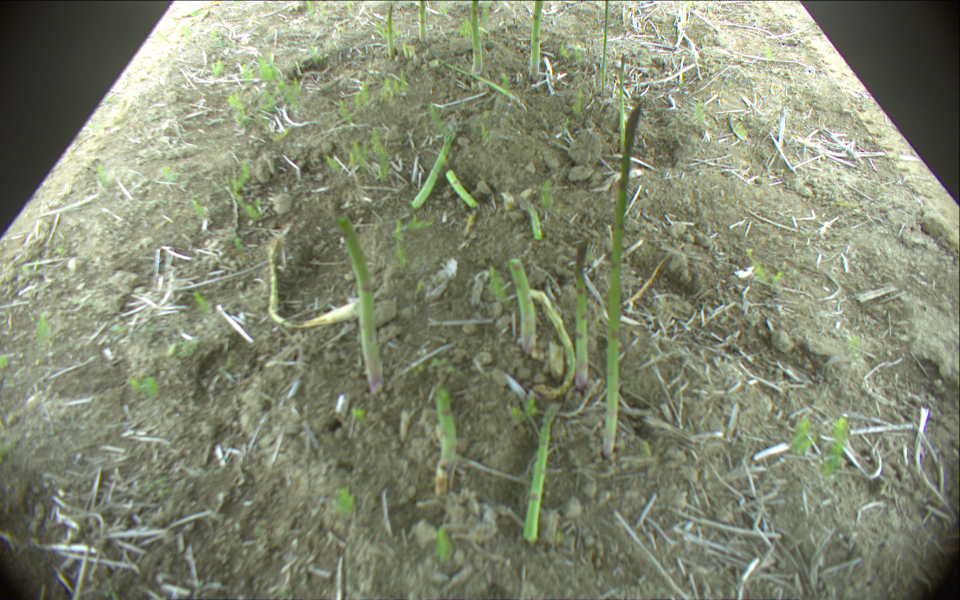aspa: (600, 101, 647, 455), (336, 215, 386, 395), (267, 239, 362, 327), (525, 286, 577, 400), (410, 111, 462, 208), (524, 401, 559, 542), (438, 57, 528, 109), (507, 257, 538, 354), (434, 387, 456, 497), (574, 237, 589, 391), (528, 1, 545, 82), (518, 195, 544, 239), (448, 171, 476, 207), (469, 1, 482, 77), (619, 55, 628, 143), (602, 1, 609, 95), (419, 1, 428, 43), (388, 6, 394, 59)
